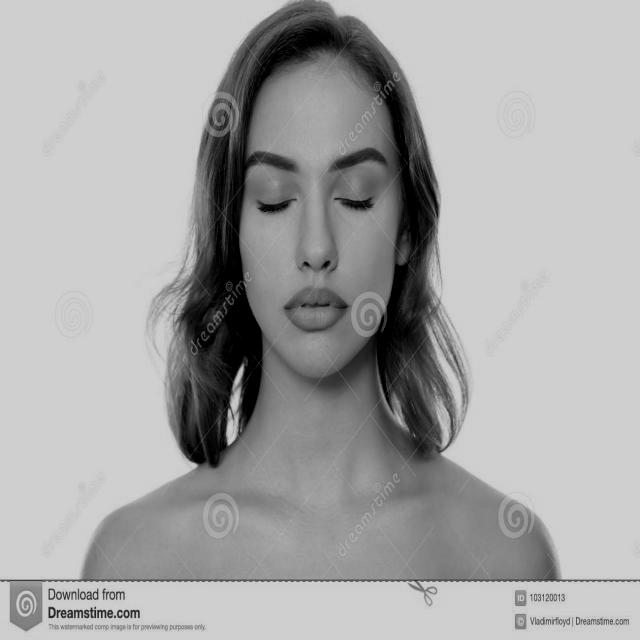real: (234, 52, 411, 379), (230, 125, 406, 236)
